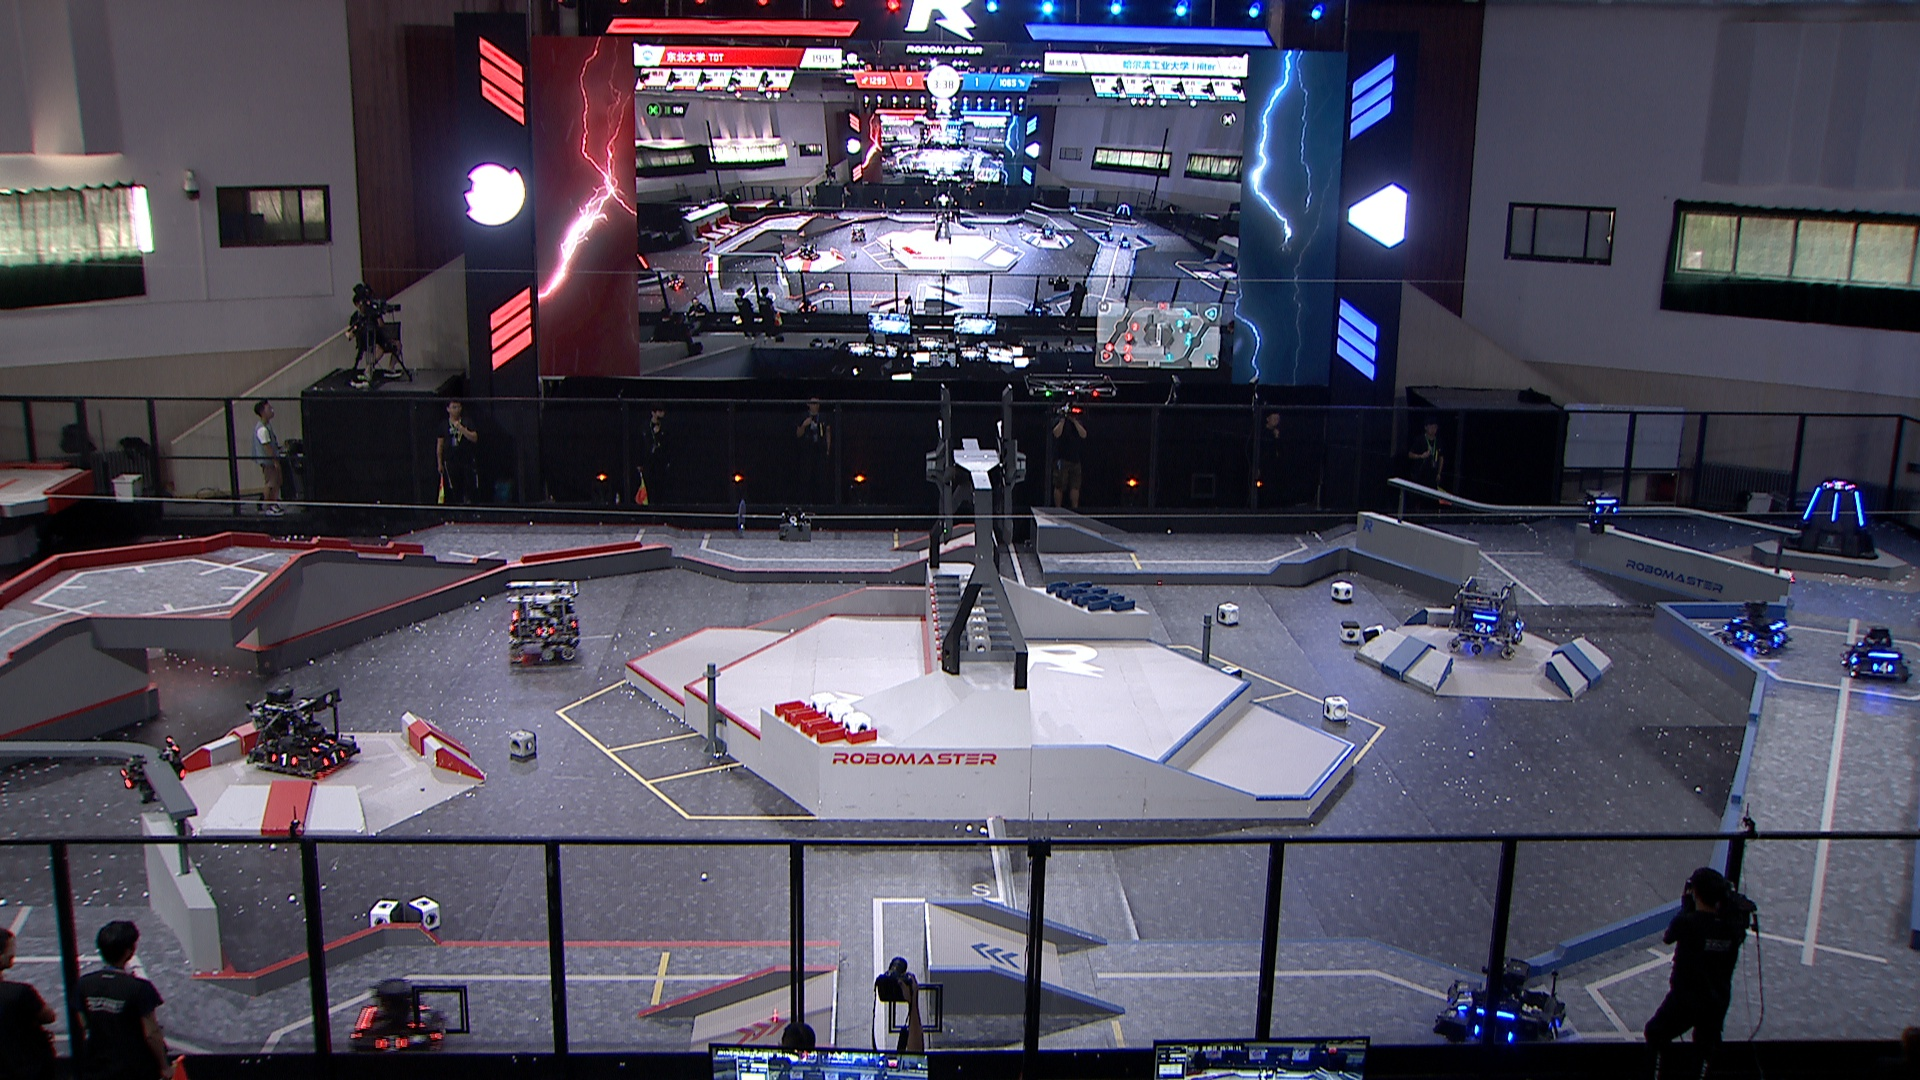armor: (371, 1033, 406, 1055), (1799, 487, 1821, 520), (268, 746, 299, 769), (309, 732, 338, 756), (409, 1004, 433, 1033), (320, 745, 345, 771), (1453, 988, 1476, 1015), (1851, 489, 1866, 531), (1870, 657, 1896, 679), (117, 765, 138, 793), (1543, 1017, 1564, 1044), (429, 1015, 448, 1043), (531, 621, 556, 638), (1594, 501, 1619, 516), (1733, 628, 1755, 644), (1474, 618, 1493, 637), (1842, 647, 1859, 666), (1832, 491, 1841, 522), (1774, 628, 1787, 647)
base: (1779, 480, 1880, 559)
car: (1433, 953, 1575, 1062), (240, 683, 363, 779), (353, 975, 452, 1063), (1443, 568, 1527, 659), (500, 578, 583, 666), (1717, 595, 1793, 657), (1840, 624, 1913, 684)
ignore: (665, 268, 688, 294), (633, 255, 655, 281), (1825, 480, 1854, 495), (799, 243, 822, 261), (1112, 202, 1131, 222), (1038, 222, 1054, 240), (851, 225, 865, 244)
watcher: (113, 731, 189, 808), (1580, 489, 1623, 535)
